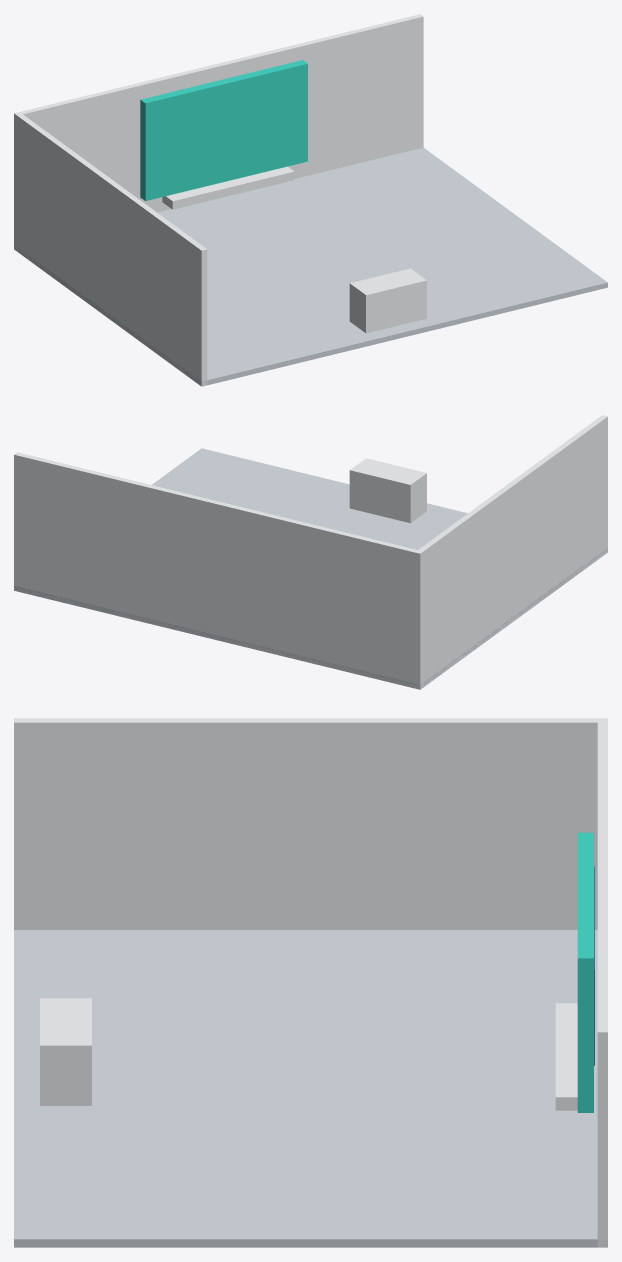
3 renders of one model, top to bottom at view 1: azimuth 30°, elevation 25°; view 2: azimuth 150°, elevation 25°; view 3: azimuth 270°, elevation 25°, orthographic. The views are drawn at different scales.
Visible parts, largest first — view 1: Exhibition Booth Concept; view 2: Exhibition Booth Concept; view 3: Exhibition Booth Concept.
Part boxes in pixels (left/top/right/bottom): Exhibition Booth Concept: left=14, top=14, right=607, bottom=386; Exhibition Booth Concept: left=14, top=415, right=607, bottom=689; Exhibition Booth Concept: left=14, top=718, right=607, bottom=1247.
Size of the model in its own units: 10 by 3.2 by 8.
